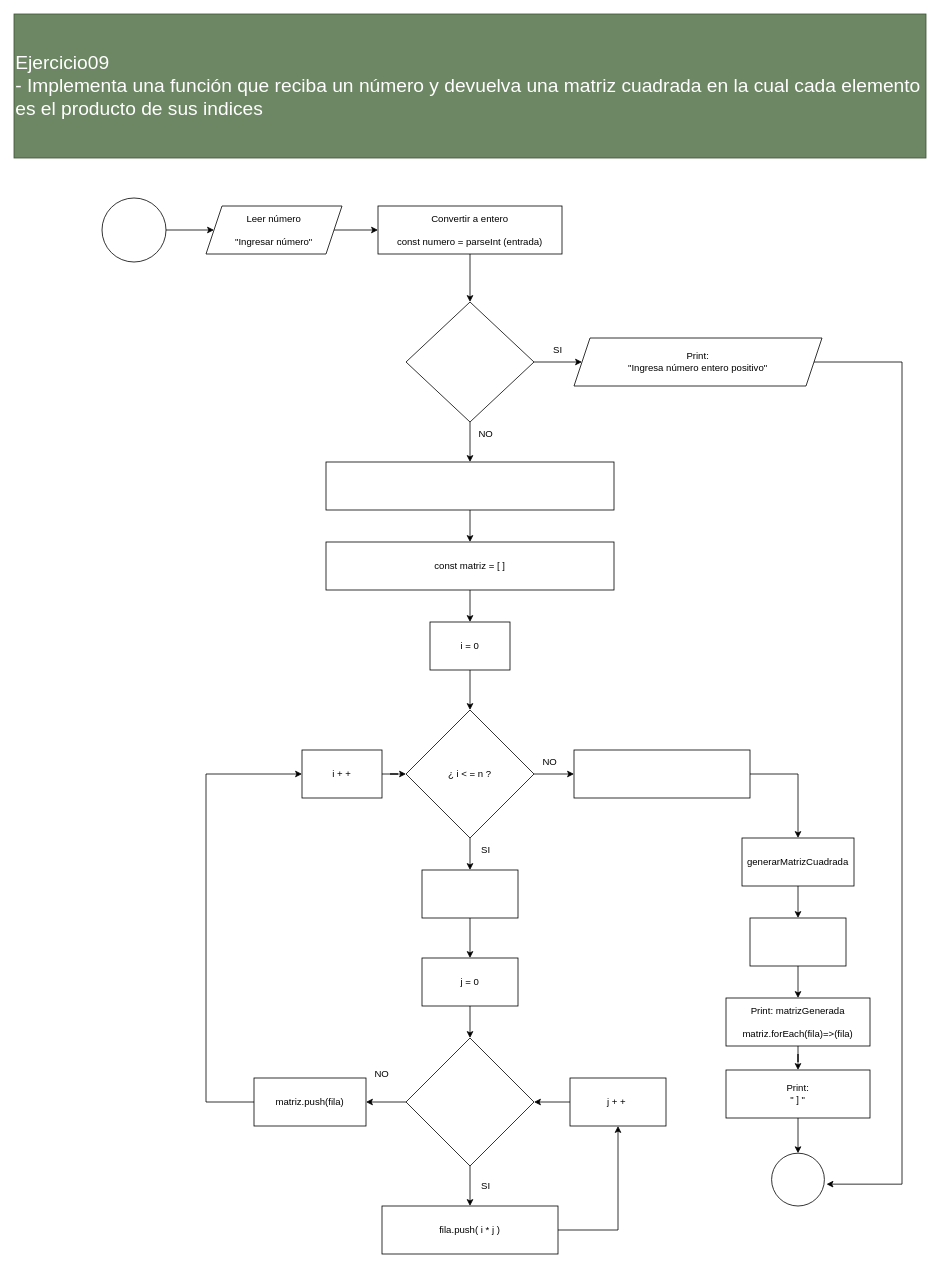
The diagram is 940 pixels wide and 1268 high, and some of its shapes have lost their labels. The box of each missing label's shape, as (x1, y1, x2, y2) in pixels:
const fila = [ ]: (421, 869, 518, 918)
FIN: (771, 1152, 824, 1206)
funcion generarMatrizCuadrada (n) matriz n x n: (325, 461, 614, 510)
INICIO: (101, 197, 166, 262)
Print: " [ [ ": (749, 917, 846, 966)
Return matriz: (573, 749, 750, 798)
¿ j < = n ?: (405, 1037, 534, 1166)
¿isNaN(numero) || numero <=0?: (405, 301, 534, 422)
